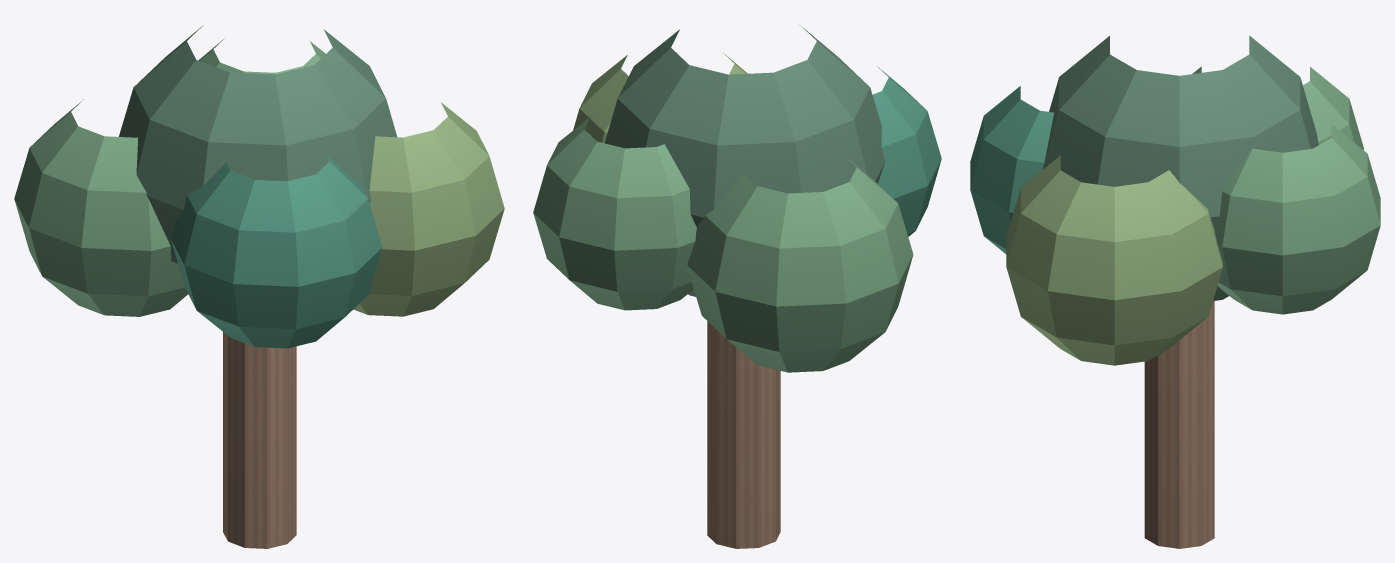
The model's file is tamarind.glb.
3 renders of one model, left to right at view 1: azimuth 30°, elevation 25°; view 2: azimuth 150°, elevation 25°; view 3: azimuth 270°, elevation 25°, orthographic.
Parts seen in each view (by area): view 1: tamarind; view 2: tamarind; view 3: tamarind.
Boxes of the visible parts, x1,y1,x2,y2 form: tamarind: (14,25,504,548); tamarind: (533,24,941,548); tamarind: (970,35,1380,548).
Bounding box in the file's own units: 4.15 × 5.15 × 3.79.
Materials: 1 (1 with a texture image).
